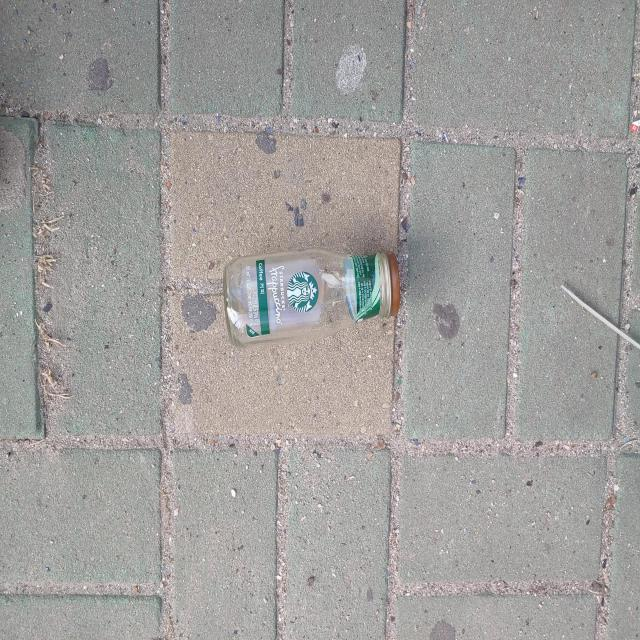glass: (223, 248, 400, 348)
